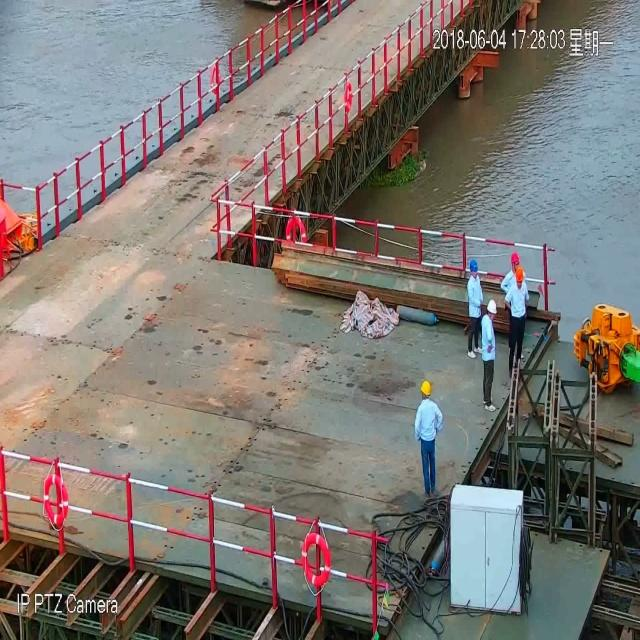helmet: (421, 505, 432, 535), (487, 397, 497, 428), (511, 334, 520, 362), (515, 356, 523, 384), (470, 344, 478, 371)
